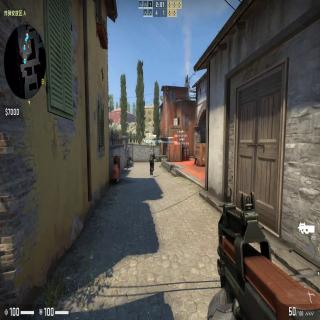CT-Body: (149, 148, 156, 176)
CT-Head: (152, 148, 154, 152)
